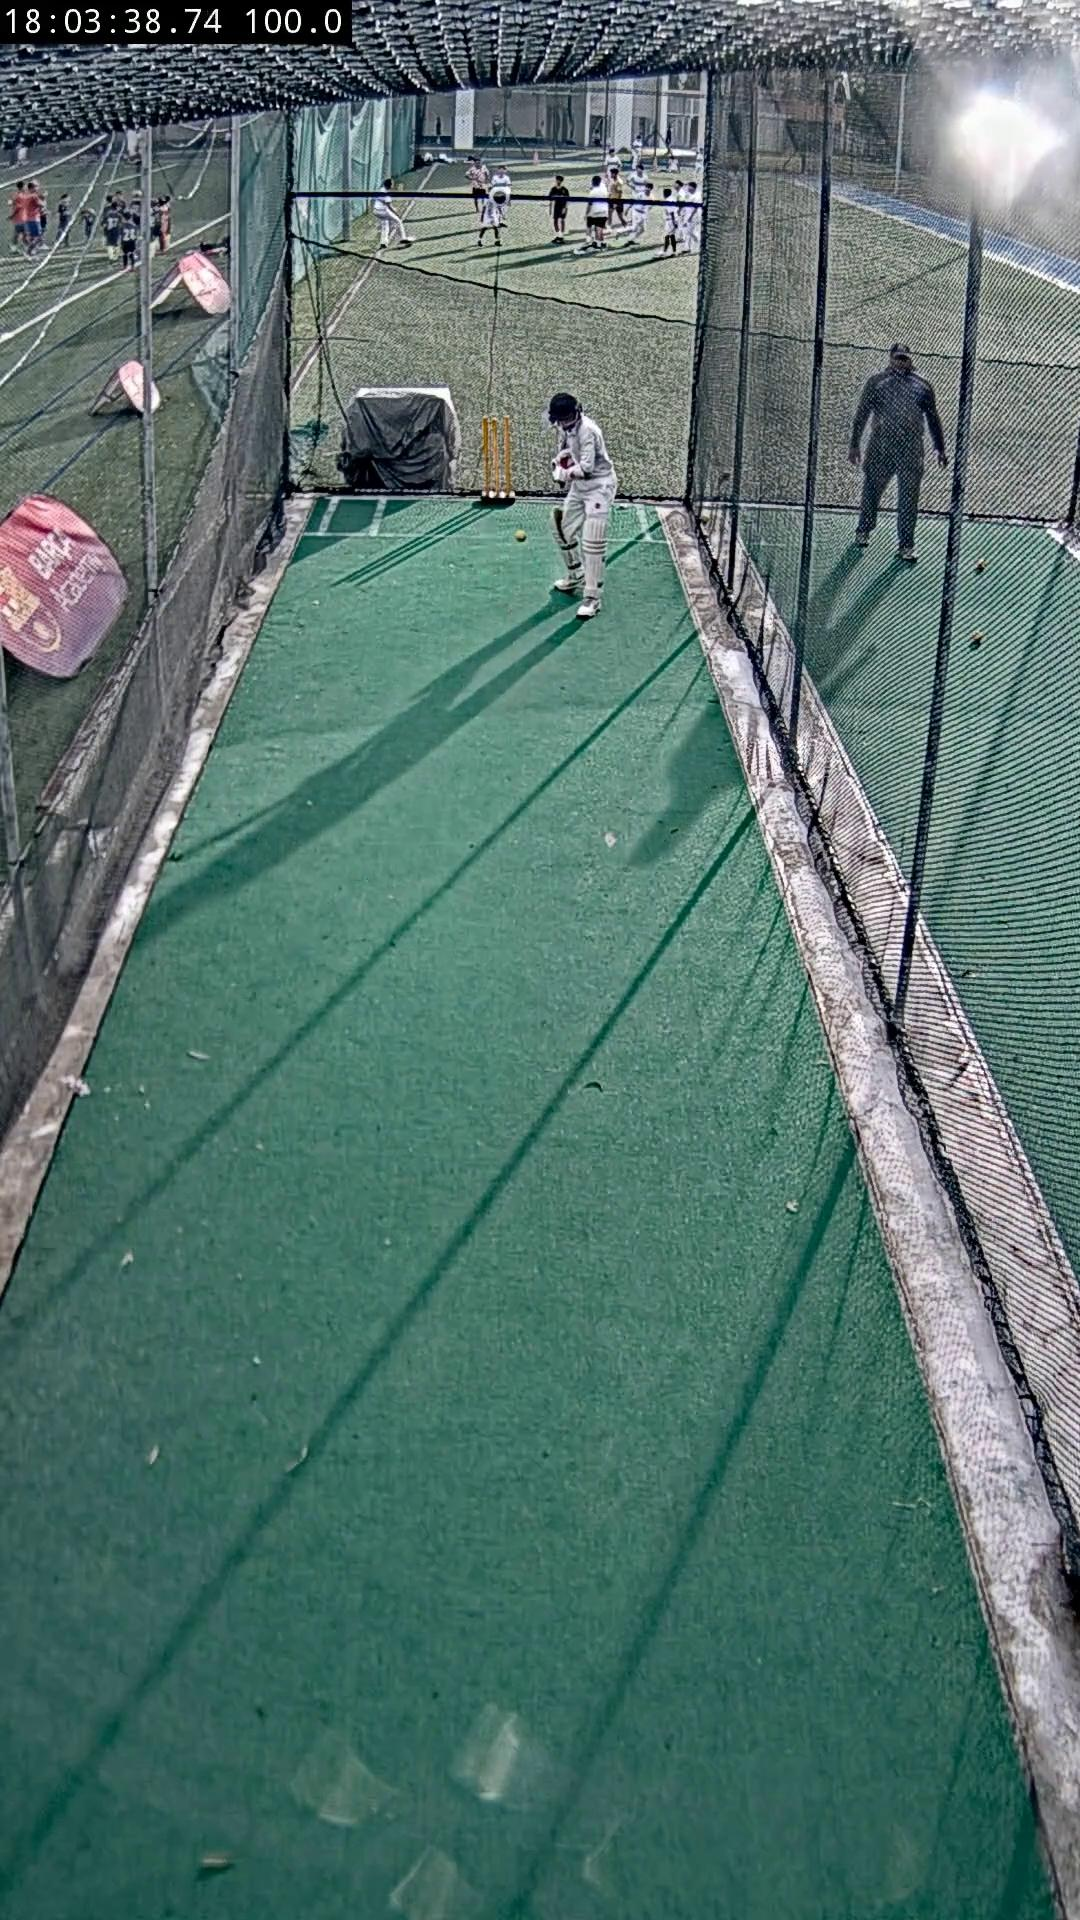ball: (514, 529, 529, 543)
gloves: (551, 450, 574, 484)
helmet: (547, 394, 582, 423)
pads: (582, 514, 608, 600), (555, 510, 570, 563)
stumps: (480, 417, 514, 502)
